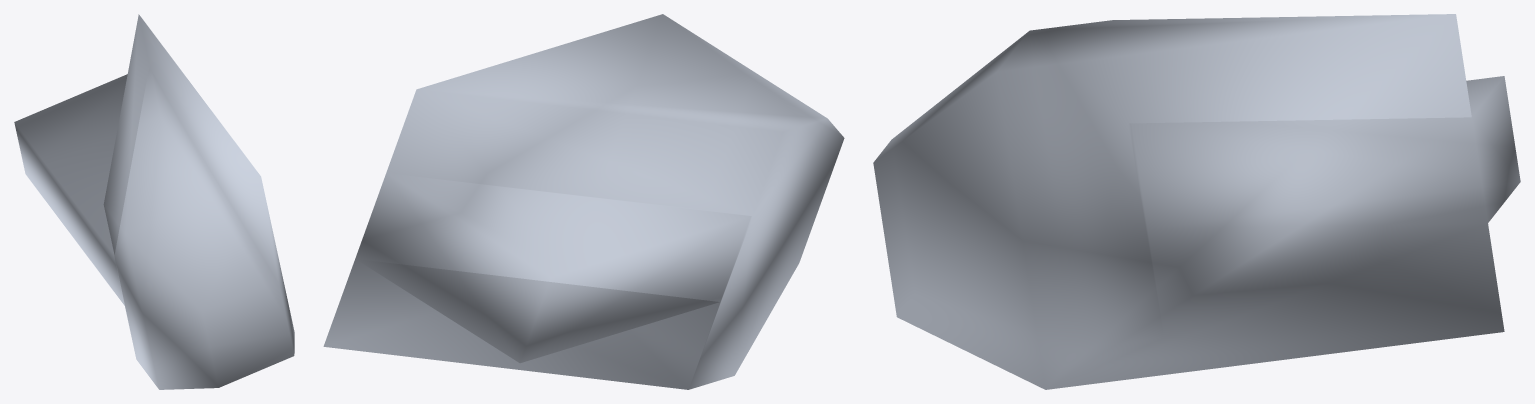
Rendered from original-14.obj.
The picture shows the model from 3 angles, left to right: view 1: azimuth 30°, elevation 25°; view 2: azimuth 150°, elevation 25°; view 3: azimuth 270°, elevation 25°; orthographic projection. The views are drawn at different scales.
Visible parts, largest first — view 1: Group12/mesh13/mesh13-geometry#mesh13-geometry; view 2: Group12/mesh13/mesh13-geometry#mesh13-geometry; view 3: Group12/mesh13/mesh13-geometry#mesh13-geometry.
Boxes of the visible parts, x1=… form: Group12/mesh13/mesh13-geometry#mesh13-geometry: x1=14, y1=14, x2=294, y2=389; Group12/mesh13/mesh13-geometry#mesh13-geometry: x1=323, y1=14, x2=844, y2=389; Group12/mesh13/mesh13-geometry#mesh13-geometry: x1=873, y1=14, x2=1520, y2=389.
Bounding box in the file's own units: 0.0283 × 0.0358 × 0.0512.
